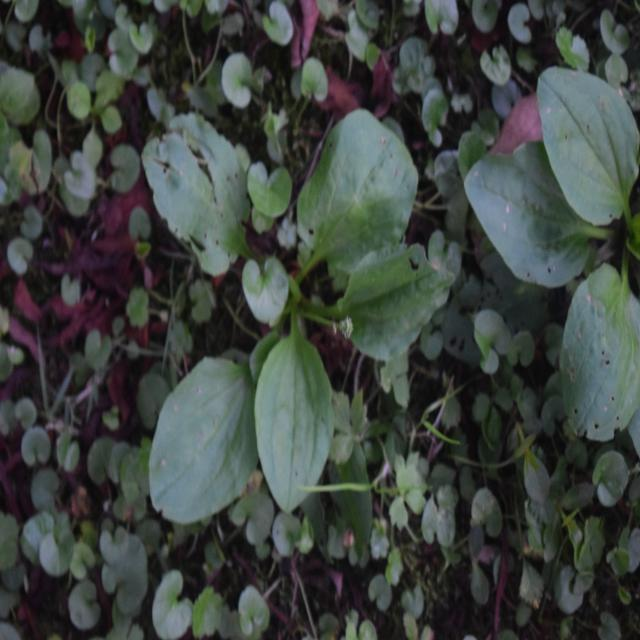plantain: (146, 75, 448, 534)
